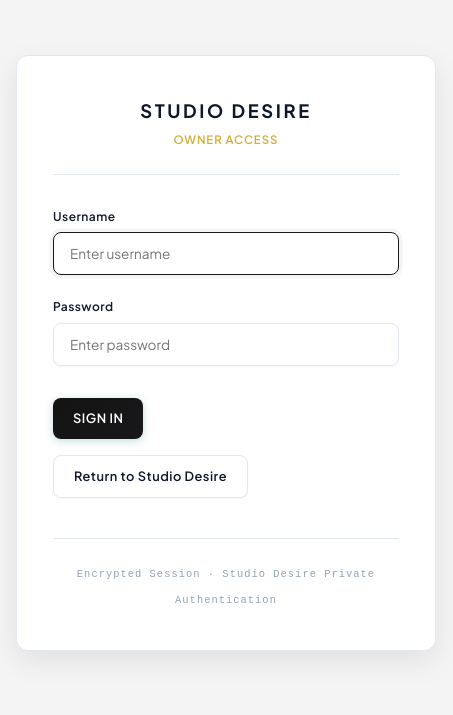
Scenario: LoginPage Component › shows validation error message when submitting empty fields
Step 1. Click the button "SIGN IN" → {"x": 98, "y": 418}, box [53,398,143,439]
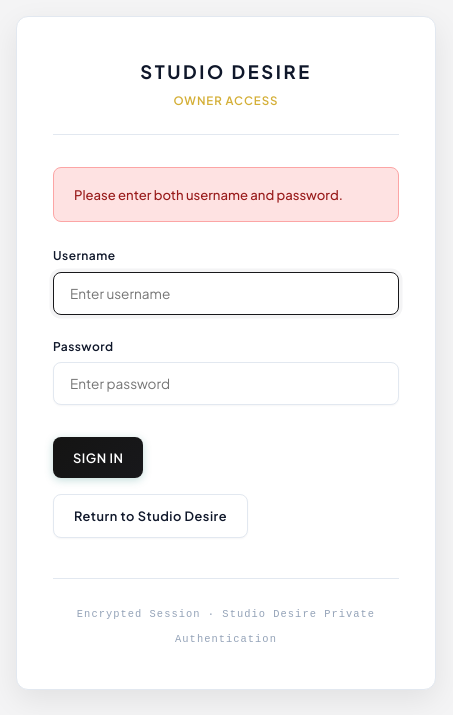
Expected: the text "Please enter both username and password." is shown, [53,167,399,222]
